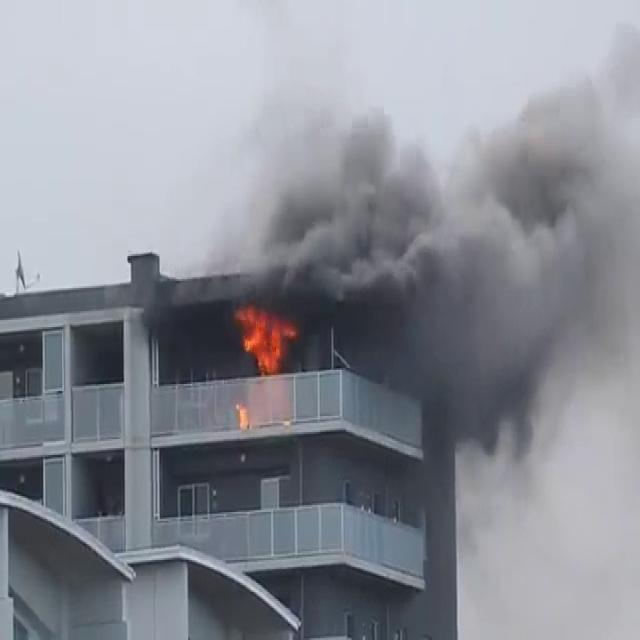Fire: (229, 296, 300, 376)
Smoke: (234, 38, 640, 510)
